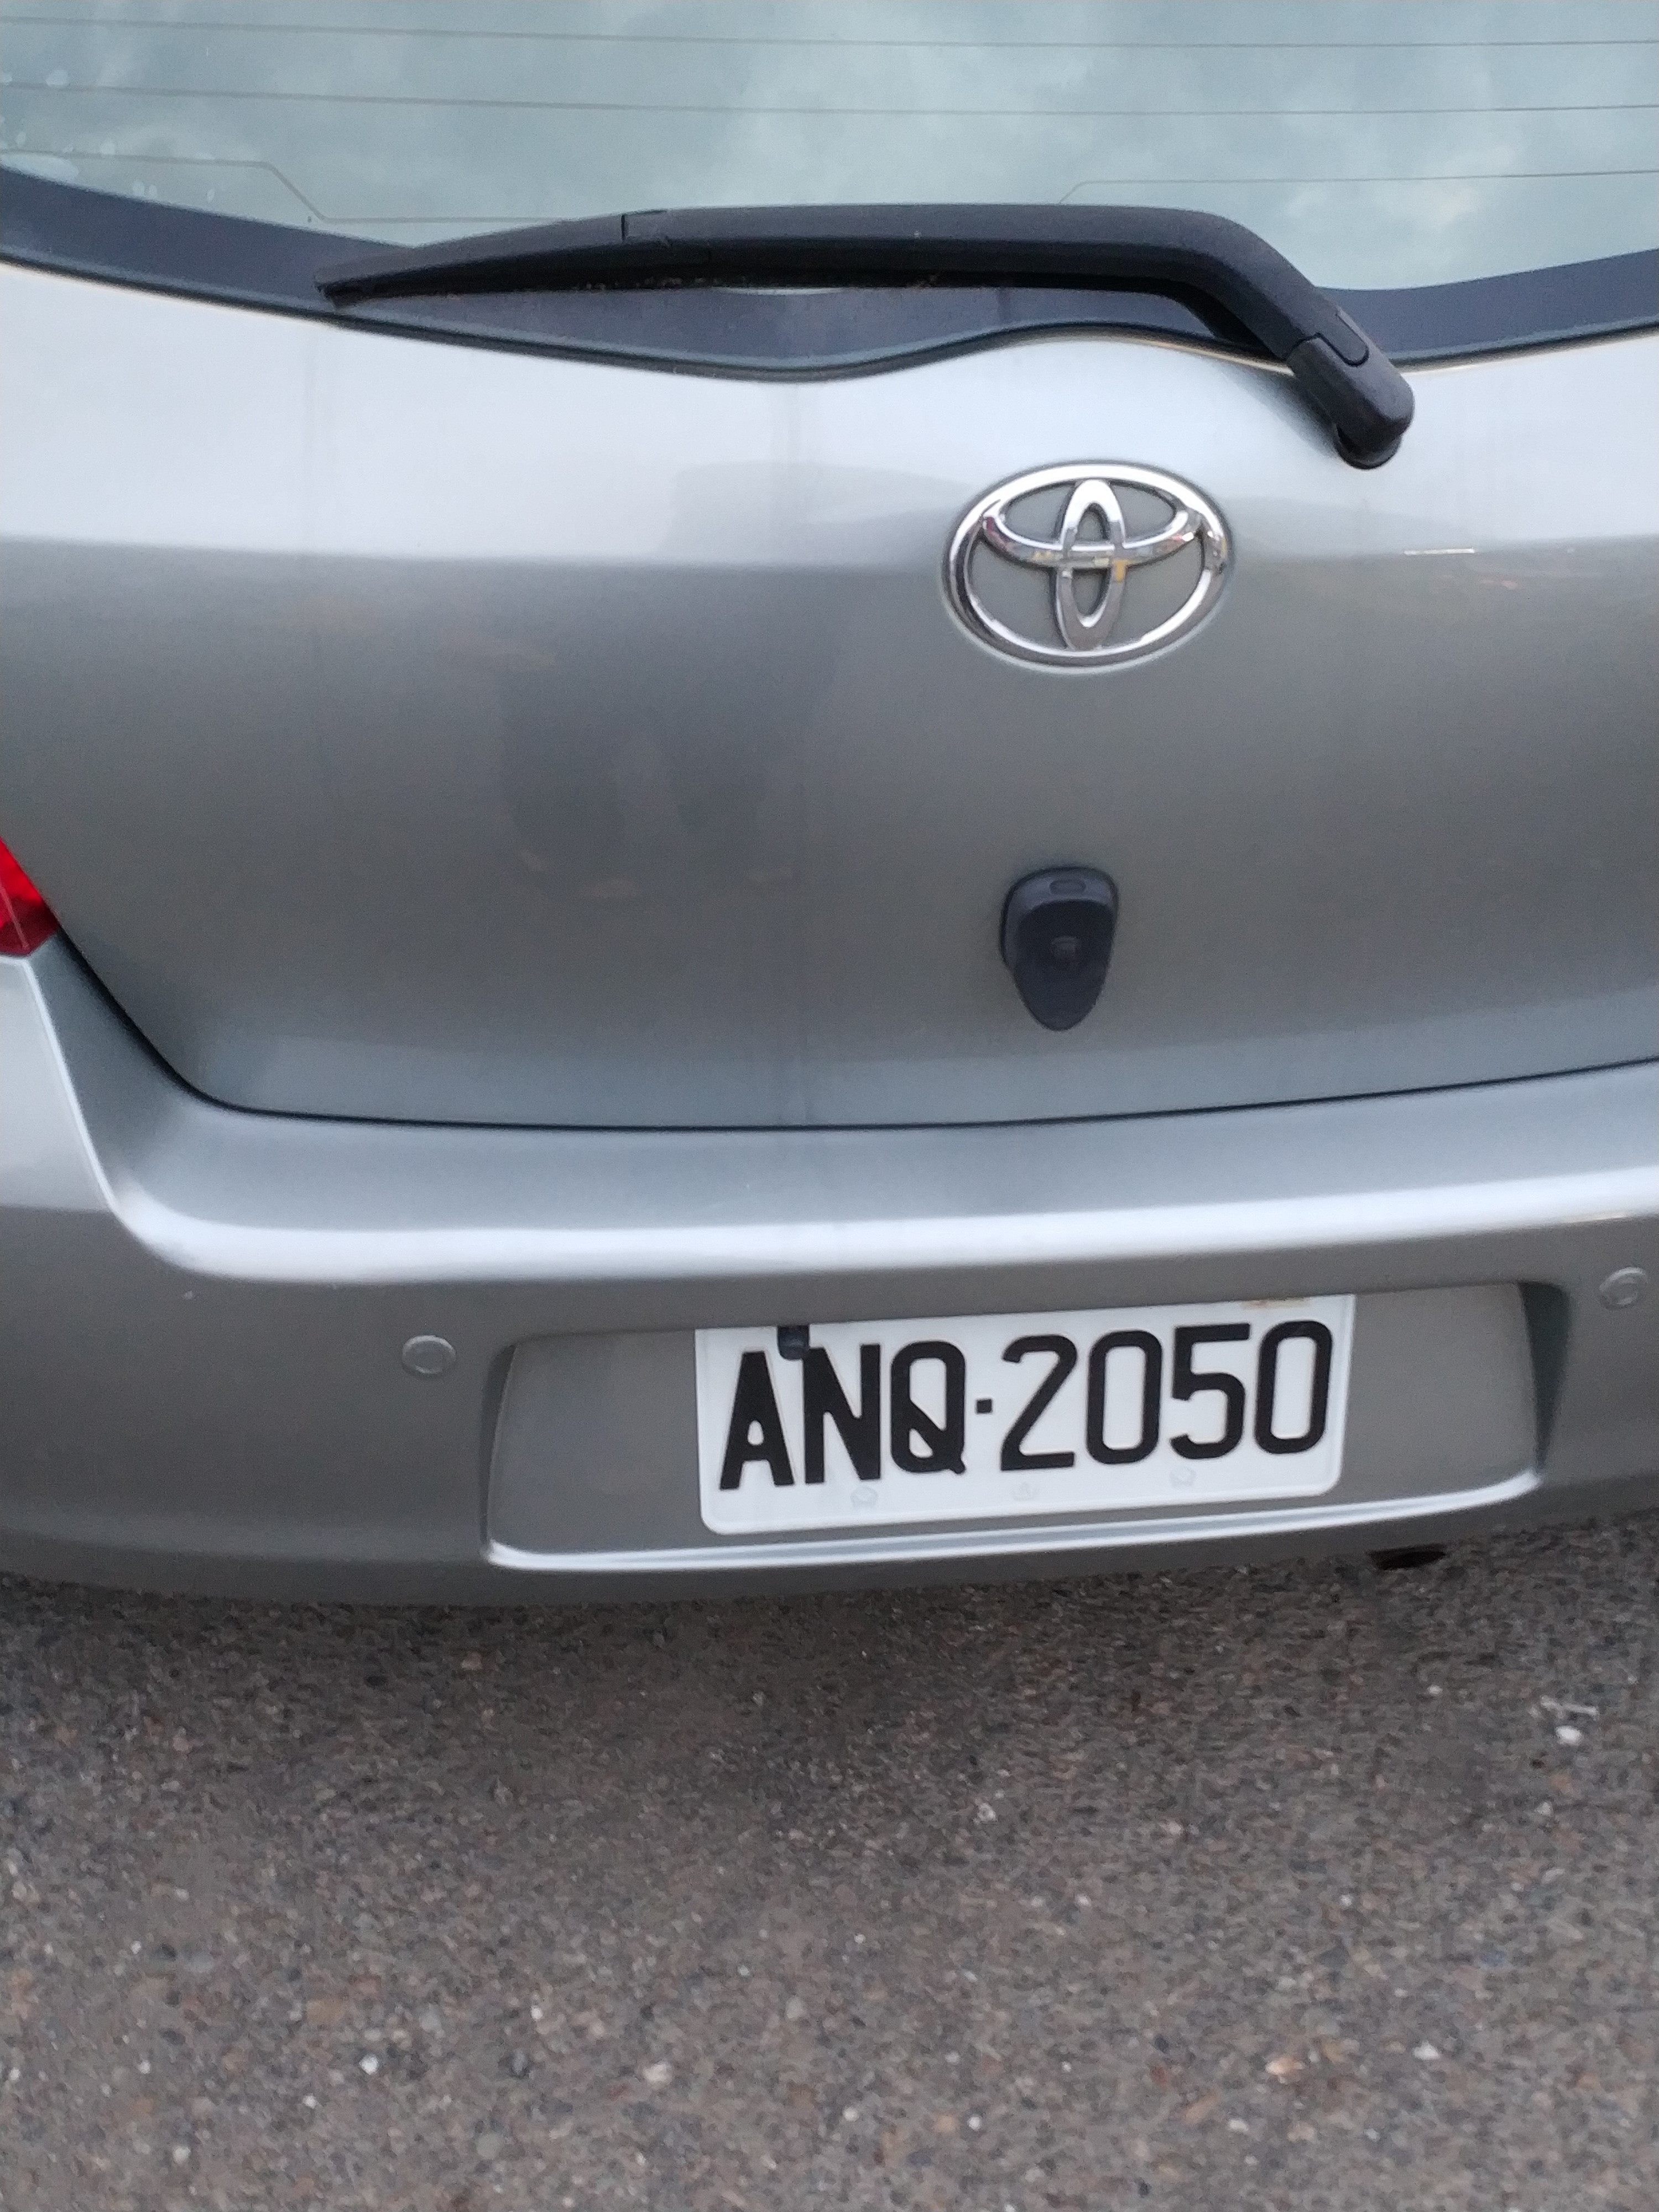car: (5, 3, 1659, 1609)
car_card: (692, 1282, 1387, 1538)
